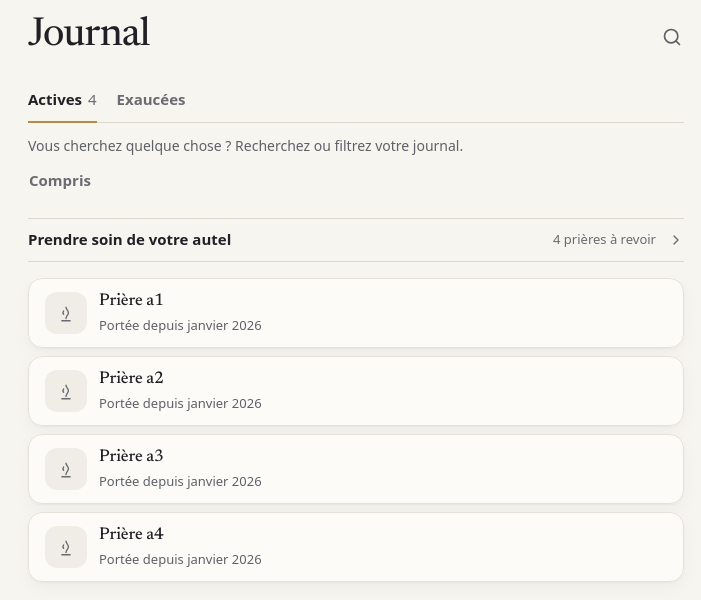
Test: Journal tools — introduced once, then never again › does not come back once dismissed
Click the button "Compris" at (60, 180), box [16, 158, 104, 202]
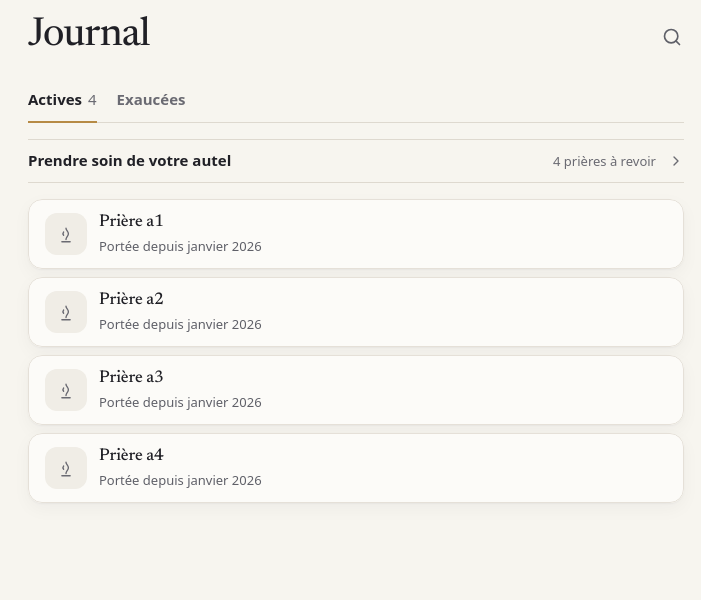
Now the text "Vous cherchez quelque chose ? Recherchez ou filtrez votre journal." is gone
